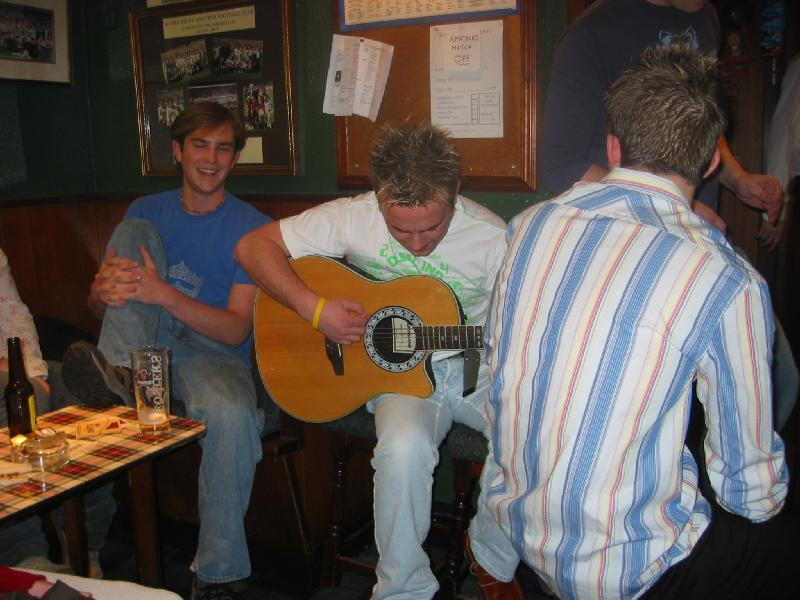person: (232, 121, 523, 598)
